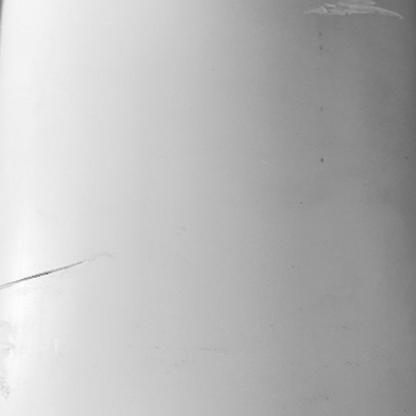sunshang: (1, 257, 91, 292), (305, 1, 405, 20)
